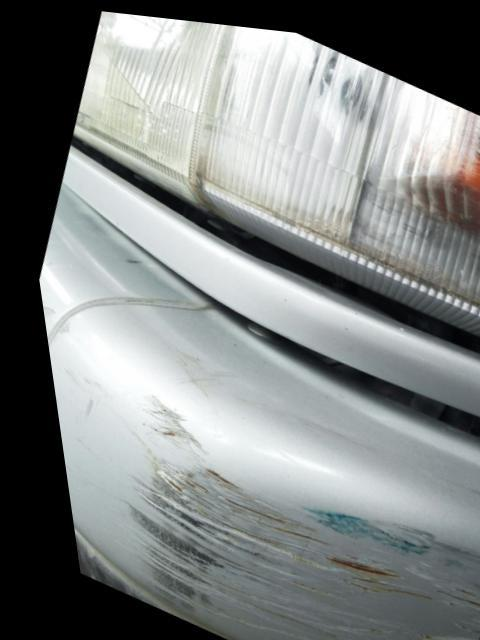scratch: (103, 392, 480, 640)
